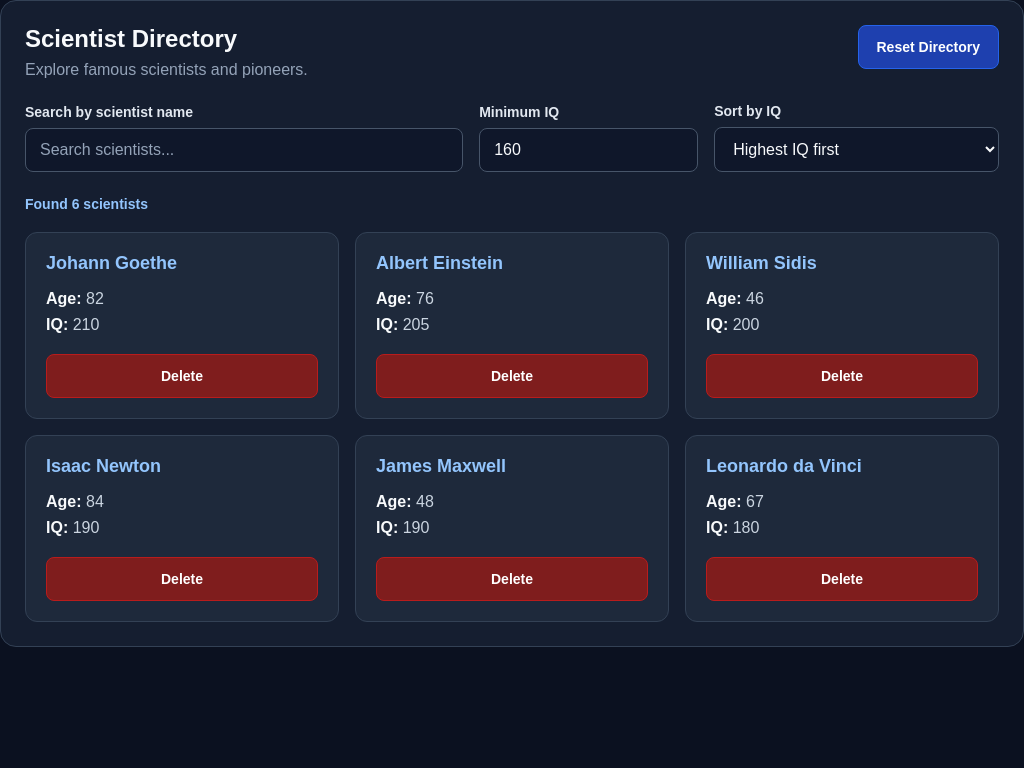
Test case: ScientistDirectory › deletes only the selected scientist
Click the button with aria-label "Delete Albert Einstein": (512,376) x1=376 y1=354 x2=648 y2=398
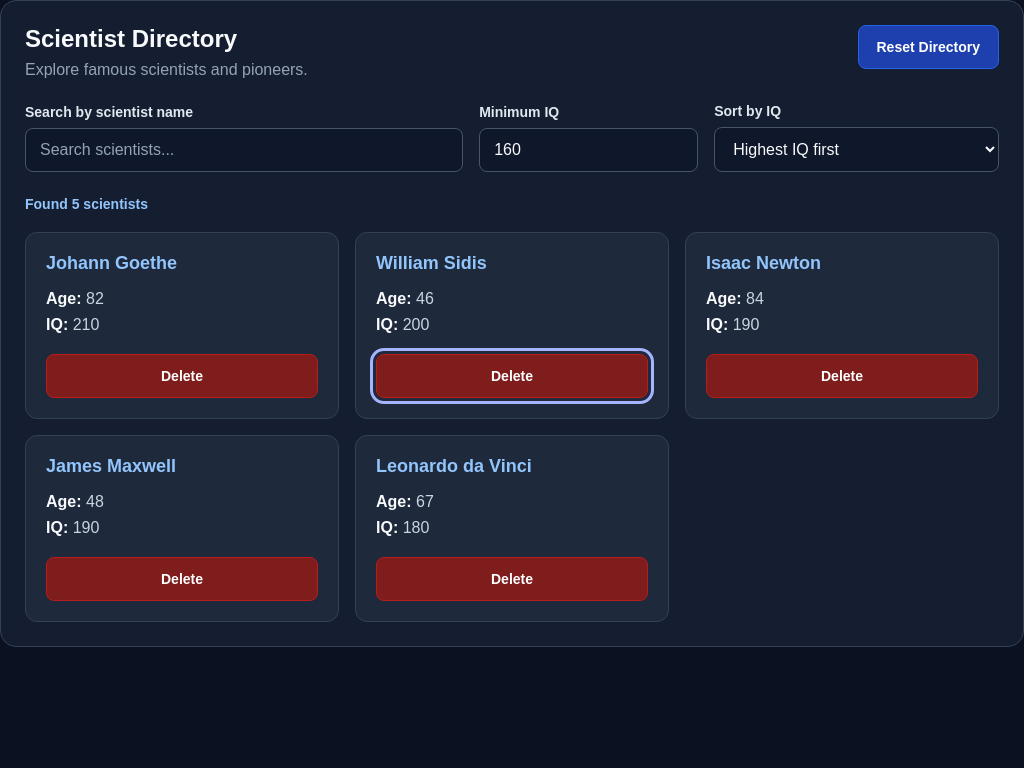
Expected: the heading "Isaac Newton" is shown, x1=706 y1=253 x2=821 y2=273
Expected: the heading "Albert Einstein" is gone
Expected: the message reads "Found 5 scientists", x1=25 y1=196 x2=148 y2=212
